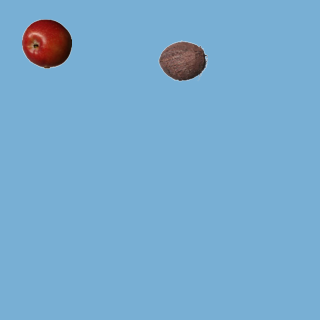Apple Braeburn: (21, 18, 71, 68)
Cocos: (157, 35, 207, 85)
